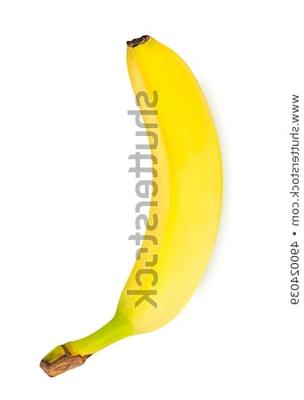banana: (0, 0, 304, 400)
